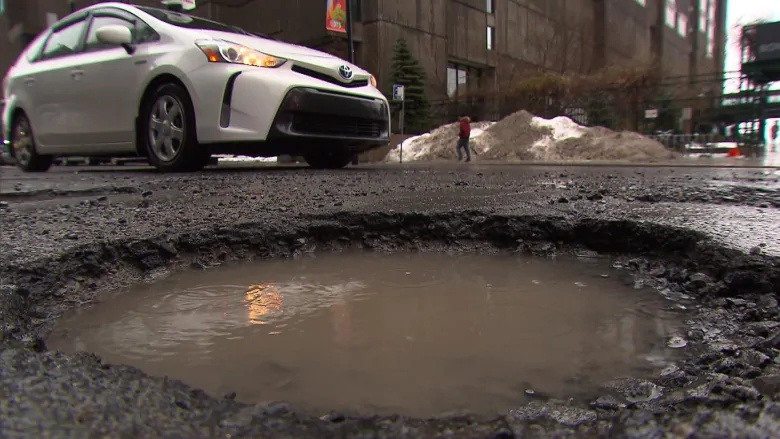pothole: (79, 182, 758, 419)
